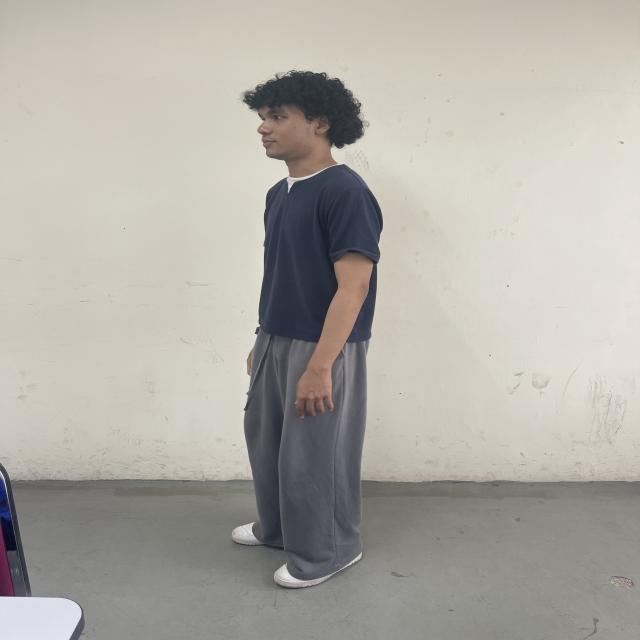person_without_labcoat: (232, 72, 383, 588)
